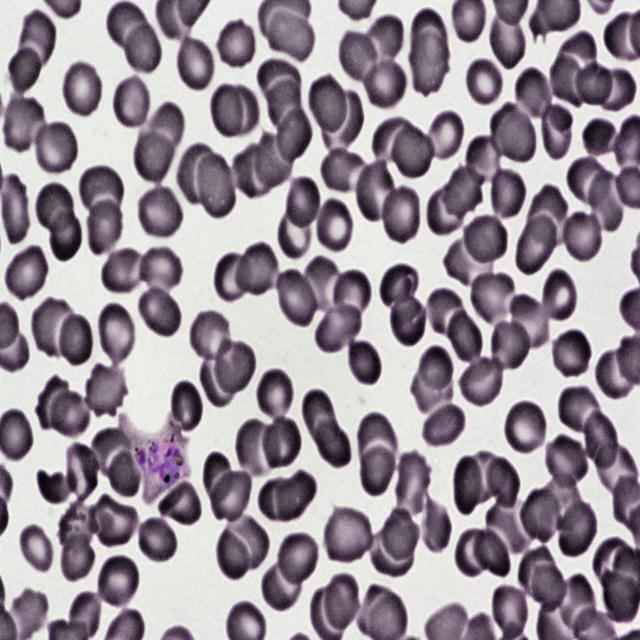red blood cell: (30, 293, 81, 361), (488, 100, 537, 166), (322, 504, 374, 566), (537, 470, 586, 534), (262, 3, 314, 62), (313, 294, 362, 356), (0, 92, 48, 155), (274, 266, 322, 328), (87, 491, 137, 550), (423, 172, 469, 236), (234, 416, 281, 478), (13, 10, 57, 76), (356, 157, 398, 226), (502, 396, 550, 456), (486, 4, 527, 74), (485, 497, 538, 551), (512, 214, 558, 275), (564, 155, 615, 210), (258, 555, 307, 612), (4, 242, 49, 304), (232, 241, 280, 299), (470, 268, 518, 326), (528, 185, 572, 248), (392, 450, 432, 519), (518, 483, 561, 547), (444, 233, 494, 288), (32, 120, 80, 177), (338, 30, 385, 88), (179, 139, 222, 202), (60, 59, 104, 120), (581, 406, 621, 473), (211, 251, 258, 308), (137, 184, 183, 242), (354, 412, 400, 470), (380, 182, 422, 245), (444, 303, 486, 366), (358, 435, 400, 498), (96, 301, 136, 367), (84, 193, 124, 259), (558, 383, 606, 438), (197, 153, 237, 219), (443, 159, 486, 220), (409, 34, 451, 96), (135, 245, 188, 294), (362, 52, 406, 111), (188, 308, 232, 367), (391, 124, 436, 181), (595, 344, 640, 401), (461, 213, 508, 267), (137, 284, 183, 339), (370, 523, 416, 578), (459, 353, 504, 409), (84, 362, 128, 419), (226, 511, 270, 568), (276, 530, 319, 588), (544, 434, 590, 488), (210, 472, 256, 526), (411, 361, 455, 417), (462, 132, 503, 192), (259, 414, 302, 471), (324, 91, 364, 152), (426, 284, 468, 342), (508, 294, 550, 352), (314, 196, 355, 255), (97, 553, 140, 609), (155, 479, 204, 528), (102, 245, 150, 295), (410, 8, 450, 68), (588, 168, 625, 232), (422, 108, 465, 163), (518, 542, 558, 601), (514, 67, 554, 126), (307, 75, 347, 134), (538, 269, 580, 325), (320, 146, 368, 195), (388, 290, 430, 346), (363, 15, 405, 71), (216, 338, 257, 395), (233, 144, 274, 201), (561, 210, 604, 264), (176, 35, 216, 93), (282, 174, 322, 232), (538, 99, 575, 161), (416, 494, 453, 556), (302, 253, 340, 313), (164, 378, 203, 436), (298, 391, 339, 446), (79, 166, 124, 216), (5, 589, 50, 639), (134, 129, 174, 185), (380, 262, 420, 318), (200, 351, 237, 411), (463, 452, 504, 506), (369, 116, 416, 163), (62, 439, 97, 502), (598, 442, 638, 497), (559, 501, 598, 557), (6, 43, 45, 99), (551, 327, 592, 380), (110, 74, 150, 128), (256, 128, 292, 188), (105, 1, 149, 50), (488, 165, 526, 221), (256, 367, 294, 423), (322, 573, 360, 629), (548, 55, 586, 111), (216, 17, 256, 70), (561, 574, 597, 632), (464, 55, 503, 108), (422, 400, 464, 449), (19, 522, 57, 576), (382, 507, 420, 561), (489, 317, 530, 367), (91, 426, 132, 476), (34, 376, 70, 432), (59, 502, 100, 551), (0, 175, 29, 244), (276, 470, 316, 520), (277, 205, 312, 262), (492, 583, 528, 638), (135, 517, 176, 565), (214, 529, 251, 582), (126, 23, 164, 74), (347, 337, 385, 388), (259, 477, 301, 523), (59, 532, 96, 584), (33, 183, 73, 231), (333, 270, 373, 318), (594, 538, 634, 586), (454, 527, 490, 580), (603, 570, 639, 623), (452, 457, 484, 516), (60, 316, 94, 371), (278, 106, 312, 161), (474, 529, 512, 578), (256, 59, 299, 102), (269, 79, 303, 133), (201, 450, 235, 504), (555, 32, 598, 74), (574, 60, 614, 105), (596, 67, 636, 111), (51, 394, 90, 439), (318, 420, 353, 470), (532, 565, 570, 611), (36, 467, 78, 508), (582, 116, 620, 161), (488, 457, 520, 510), (107, 447, 141, 496), (212, 84, 243, 137), (50, 210, 80, 264), (418, 345, 454, 389), (148, 100, 184, 144), (67, 592, 101, 638), (228, 86, 258, 136)
schizont: (123, 416, 192, 502)
